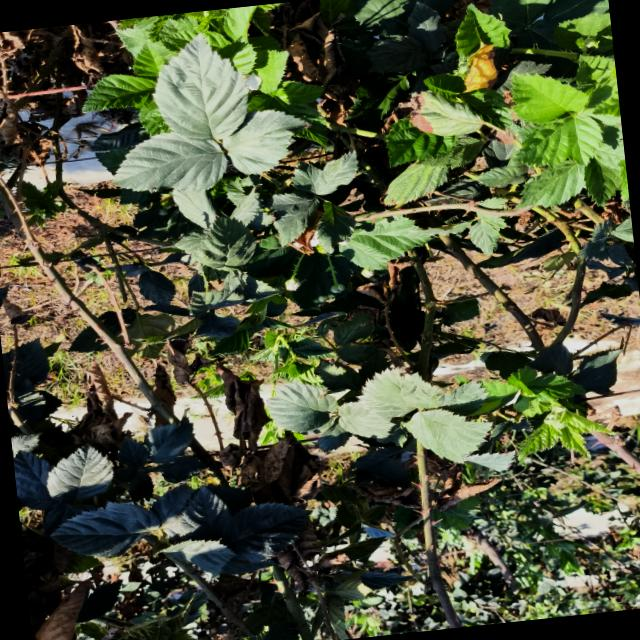boton: (285, 276, 300, 291), (331, 282, 344, 293), (360, 268, 373, 277)
